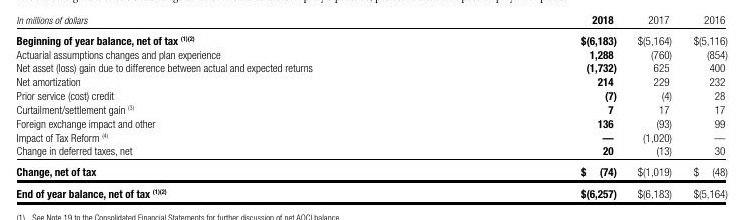table: (0, 0, 745, 220)
